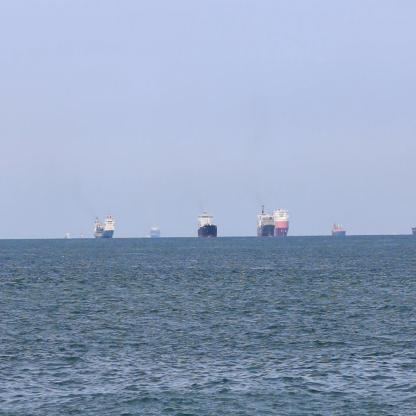Container Ship: (196, 204, 218, 236), (256, 200, 274, 238), (92, 213, 117, 240), (275, 203, 290, 238), (330, 218, 348, 236), (149, 223, 162, 238), (64, 227, 73, 239), (80, 229, 86, 240)
